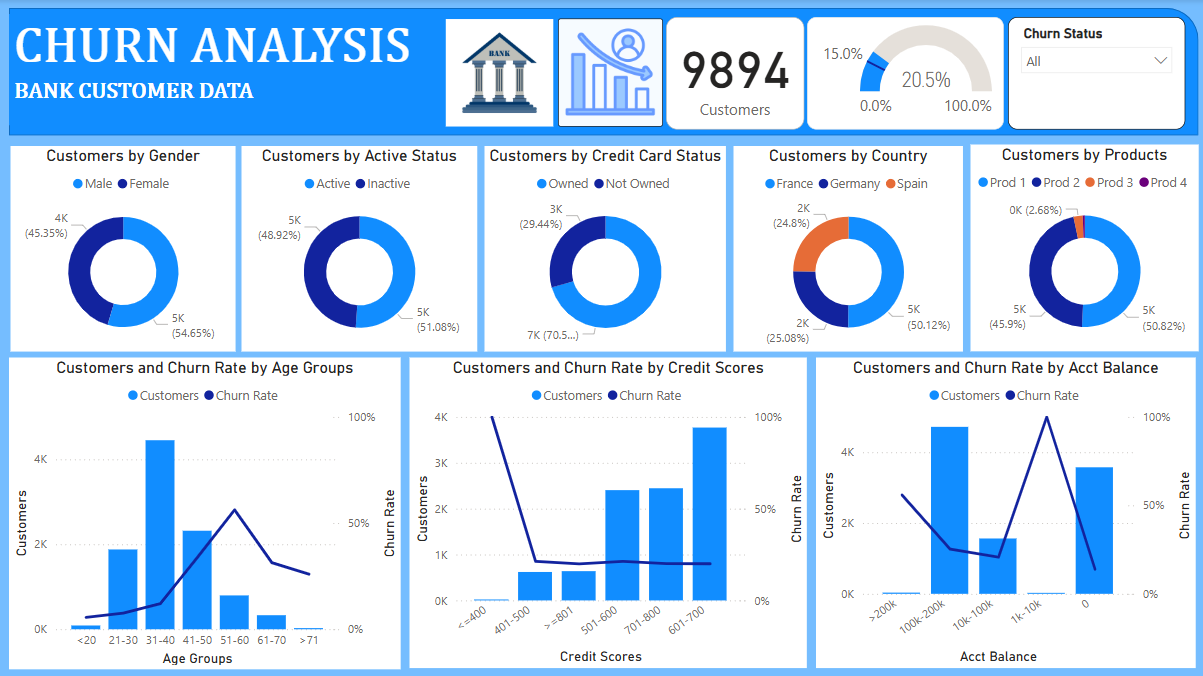

This screenshot's page, from the dashboard's own definition file:
{"tool":"powerbi","page":{"name":"Churn Dashboard","canvas":[1280,720],"ordinal":0},"visuals":[{"type":"shape","box":[12.7,9.5,1261.4,135.2],"z":0},{"type":"card","fields":{"Values":["Customer Data.Customers"]},"box":[709.4,19.1,146.3,119.3],"z":1000},{"type":"donutChart","fields":{"Category":["Customer Data.Gender"],"Y":["Customer Data.Customers"]},"box":[14,155.7,238.6,217.9],"z":2000},{"type":"donutChart","fields":{"Y":["Customer Data.Customers"],"Category":["Customer Data.Active Status"]},"box":[259,155.7,249.7,217.9],"z":3000},{"type":"donutChart","fields":{"Y":["Customer Data.Customers"],"Category":["Customer Data.Credit Card Status"]},"box":[516.7,156.2,256.1,217.9],"z":4000},{"type":"donutChart","fields":{"Y":["Customer Data.Customers"],"Category":["Customer Data.Country"]},"box":[780.7,156.2,243.4,217.9],"z":5000},{"type":"donutChart","fields":{"Y":["Customer Data.Customers"],"Category":["Customer Data.Products"]},"box":[1032,154.7,241.8,219.5],"z":6000},{"type":"lineStackedColumnComboChart","fields":{"Y":["Customer Data.Customers"],"Y2":["Customer Data.Churn Rate"],"Category":["Age Groups.Age Groups"]},"box":[12.7,380.2,415.1,330.8],"z":7000},{"type":"lineStackedColumnComboChart","fields":{"Y":["Customer Data.Customers"],"Y2":["Customer Data.Churn Rate"],"Category":["Credit Scores Groups.Credit Scores"]},"box":[437.4,380.2,421.5,329.3],"z":8000},{"type":"lineStackedColumnComboChart","fields":{"Y":["Customer Data.Customers"],"Y2":["Customer Data.Churn Rate"],"Category":["Acct Balance Groups.Acct Balance"]},"box":[868.5,380.2,402.4,329.3],"z":9000},{"type":"slicer","fields":{"Values":["Customer Data.Churn Status"]},"box":[1072.1,19.1,187.7,119.3],"z":10000},{"type":"gauge","fields":{"Y":["Customer Data.Churn Rate"],"MinValue":["Min(Customer Data.Min Churn Rate)"],"MaxValue":["Max(Customer Data.Max Churn Rate)"],"TargetValue":["Max(Customer Data.Target Churn Rate)"]},"box":[858.9,19.1,208.4,119.3],"z":11000},{"type":"image","box":[594.9,20.7,111.3,114.5],"z":12000},{"type":"textbox","box":[12.7,15.9,512.2,117.7],"z":13000},{"type":"image","box":[469.2,15.9,127.2,124.1],"z":14000}]}

Visuals, with their boxes in screenshot pixels (x1, y1, x2, y2), scaled from the page's 1280x720 canvas onto the 1203x676 screenshot:
shape: (12,9,1197,136)
card - Customer Data.Customers: (667,18,804,130)
donutChart - Customer Data.Gender x Customer Data.Customers: (13,146,237,351)
donutChart - Customer Data.Customers x Customer Data.Active Status: (243,146,478,351)
donutChart - Customer Data.Customers x Customer Data.Credit Card Status: (486,147,726,351)
donutChart - Customer Data.Customers x Customer Data.Country: (734,147,962,351)
donutChart - Customer Data.Customers x Customer Data.Products: (970,145,1197,351)
lineStackedColumnComboChart - Customer Data.Customers x Customer Data.Churn Rate: (12,357,402,668)
lineStackedColumnComboChart - Customer Data.Customers x Customer Data.Churn Rate: (411,357,807,666)
lineStackedColumnComboChart - Customer Data.Customers x Customer Data.Churn Rate: (816,357,1194,666)
slicer - Customer Data.Churn Status: (1008,18,1184,130)
gauge - Customer Data.Churn Rate x Min(Customer Data.Min Churn Rate): (807,18,1003,130)
image: (559,19,664,127)
textbox: (12,15,493,125)
image: (441,15,561,131)
